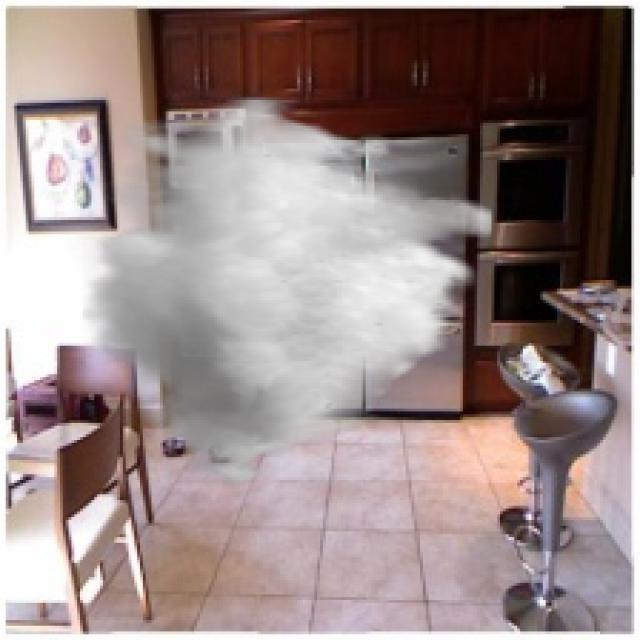smoke: (83, 97, 494, 494)
